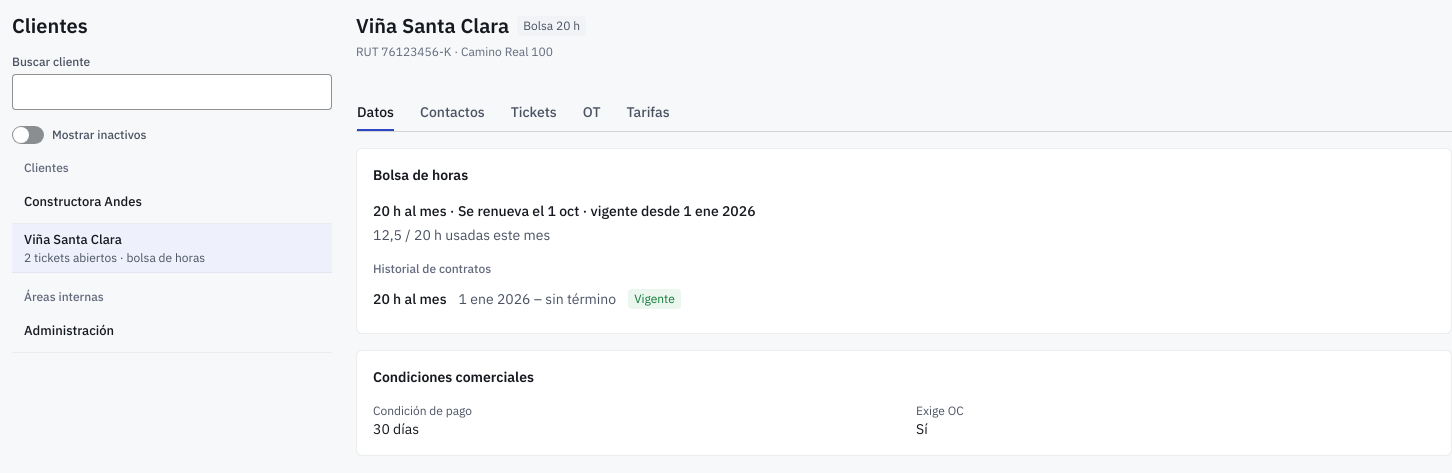
Scenario: quien solo lee no ve el botón de nuevo ticket pero sí la lista de tickets
Step 1. Click the tab "Tickets" → (534, 112), box [510,92,558,131]
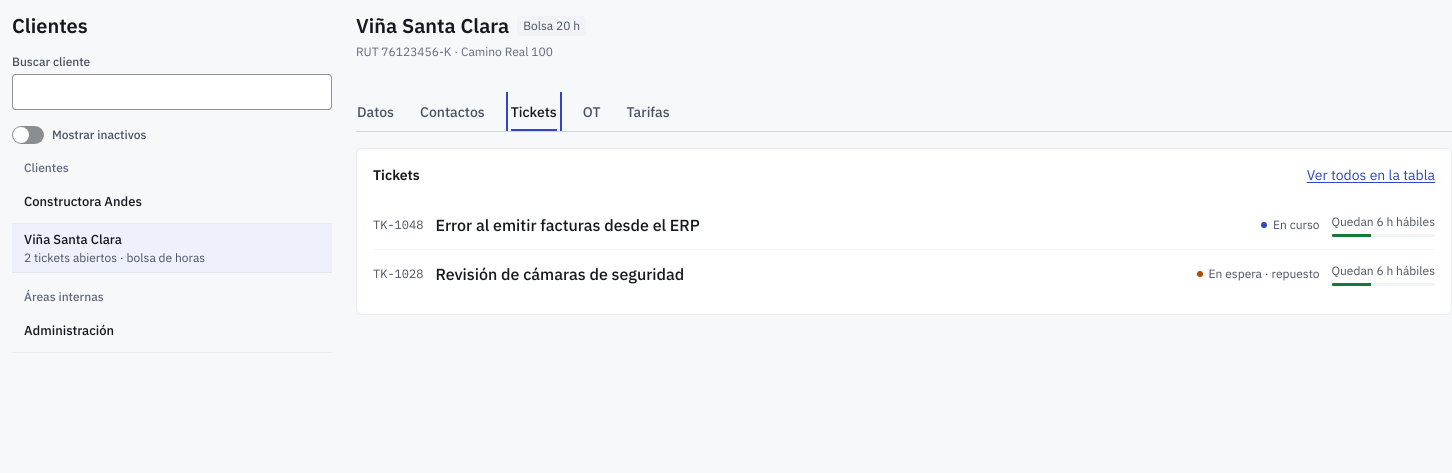
Expected: the text "TK-1048" is shown, [373,217,423,233]
